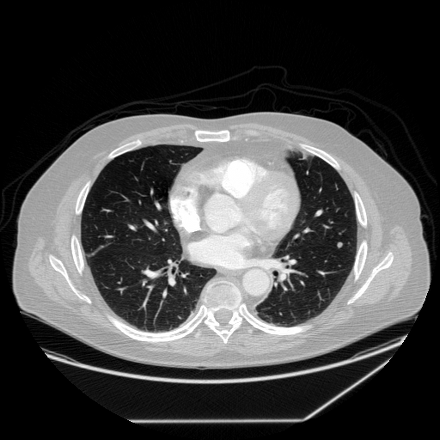nodule: (336, 242, 342, 248)
